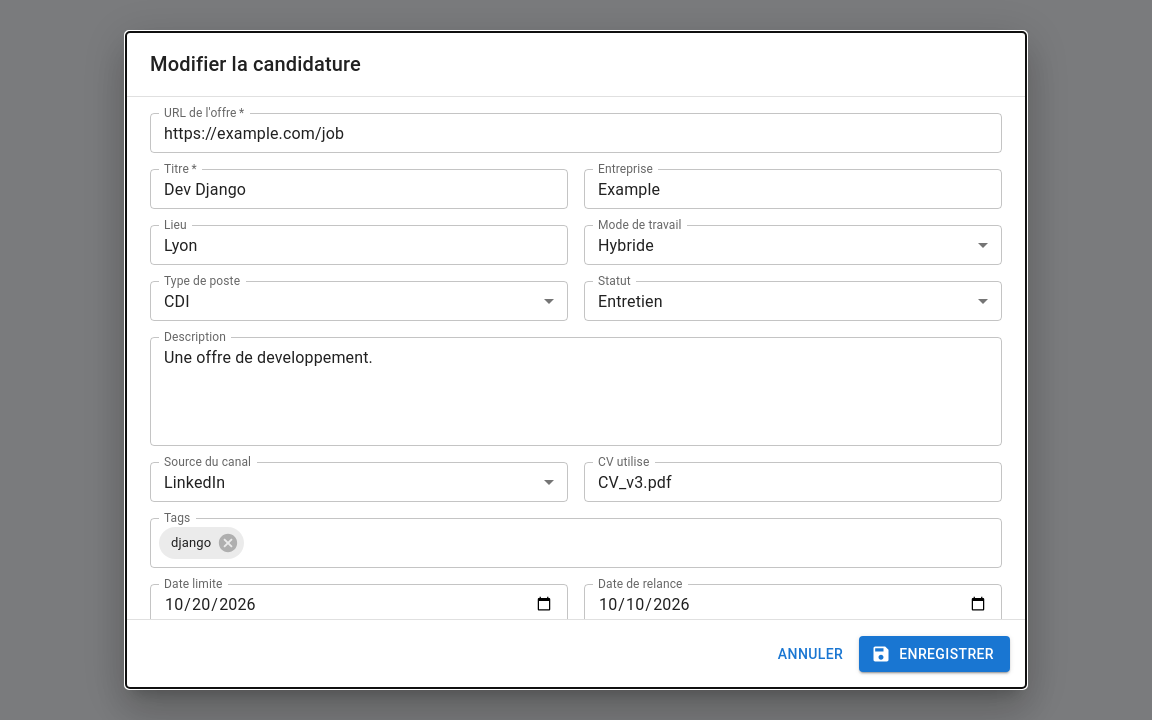
Scenario: retains entered values on API error and displays field errors
The width and height of the screenshot is (1152, 720).
Click the button "Enregistrer".
click(935, 654)  # box left=859, top=636, right=1010, bottom=672
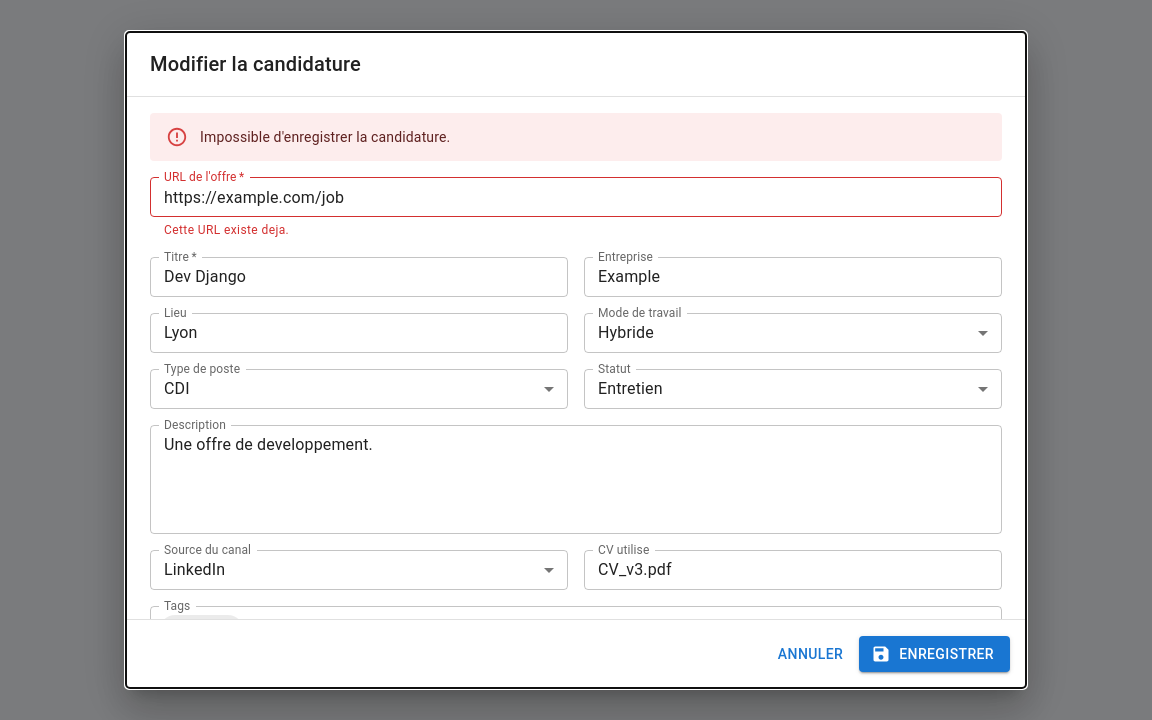
Expected: the field labelled "Titre *" holds "Dev Django", left=150, top=257, right=568, bottom=297
Expected: the text "Cette URL existe deja." is shown, left=164, top=223, right=289, bottom=237
